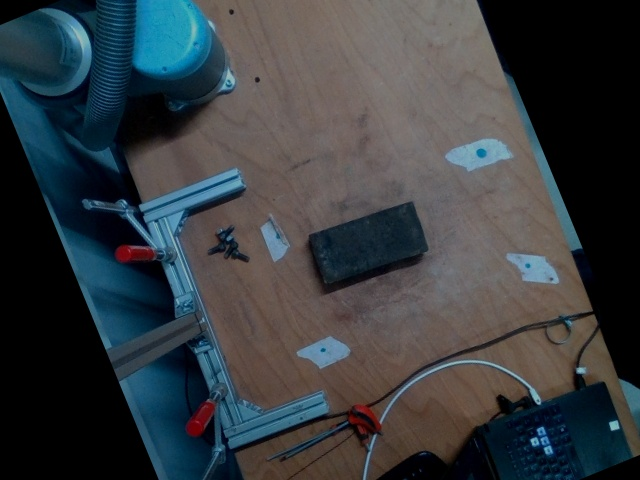brick: (308, 202, 428, 283)
